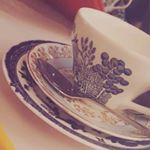cups: (68, 6, 150, 114)
